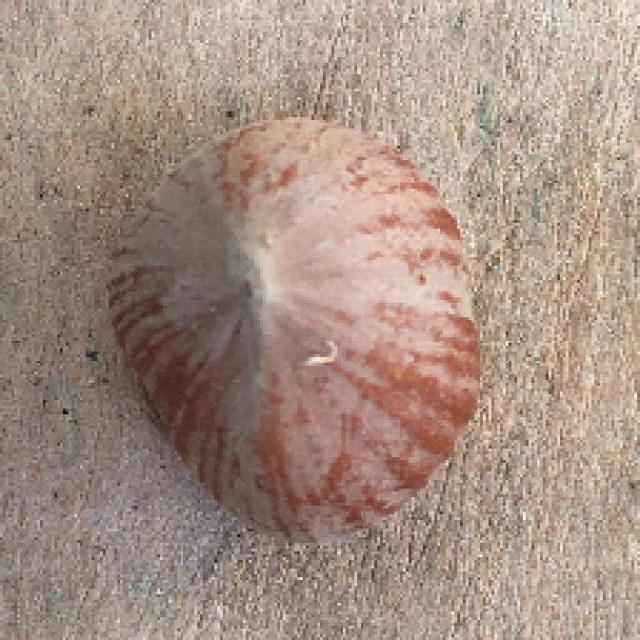qualityHazelnut: (109, 122, 486, 532)
